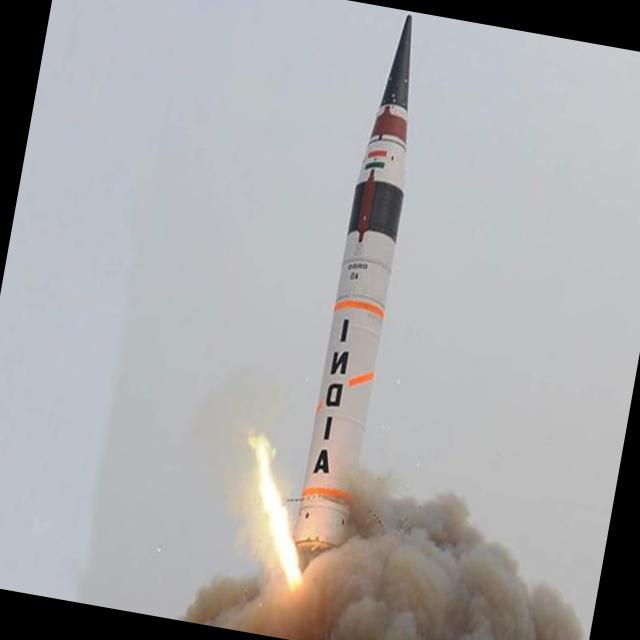rocket: (263, 5, 454, 595)
